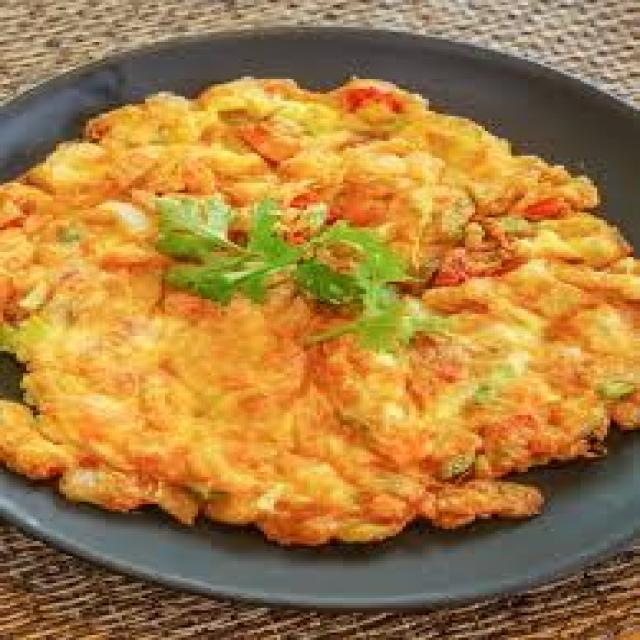telur_dadar: (0, 80, 635, 542)
